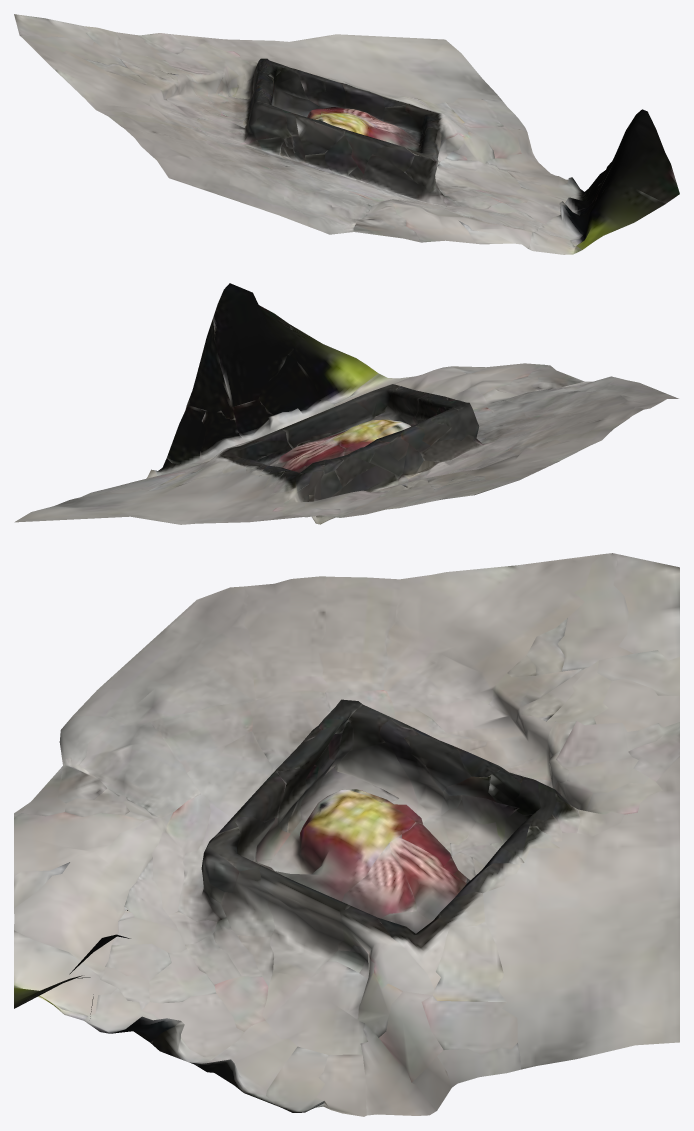
File: hall.glb
The picture shows the model from 3 angles, top to bottom: view 1: azimuth 30°, elevation 25°; view 2: azimuth 150°, elevation 25°; view 3: azimuth 270°, elevation 25°; orthographic projection. The views are drawn at different scales.
Bounding box in the file's own units: 1.72 × 0.6747 × 1.58.
Materials: 1 (1 with a texture image).
